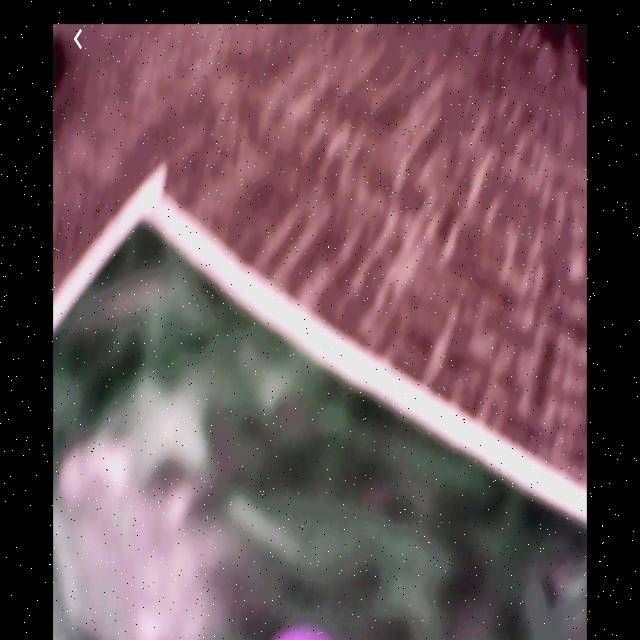ball: (273, 622, 335, 640)
